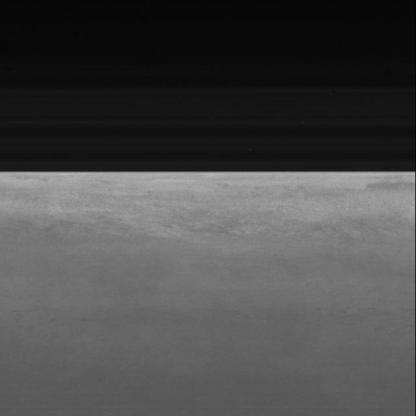silk_spot: (52, 209, 331, 245)
